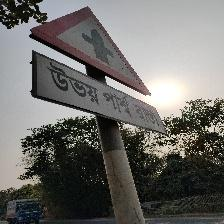Crossroad: (25, 1, 176, 139)
